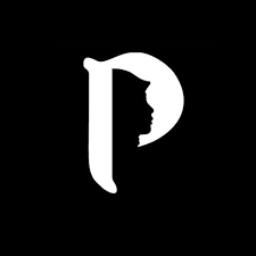p: (80, 45, 188, 199)
